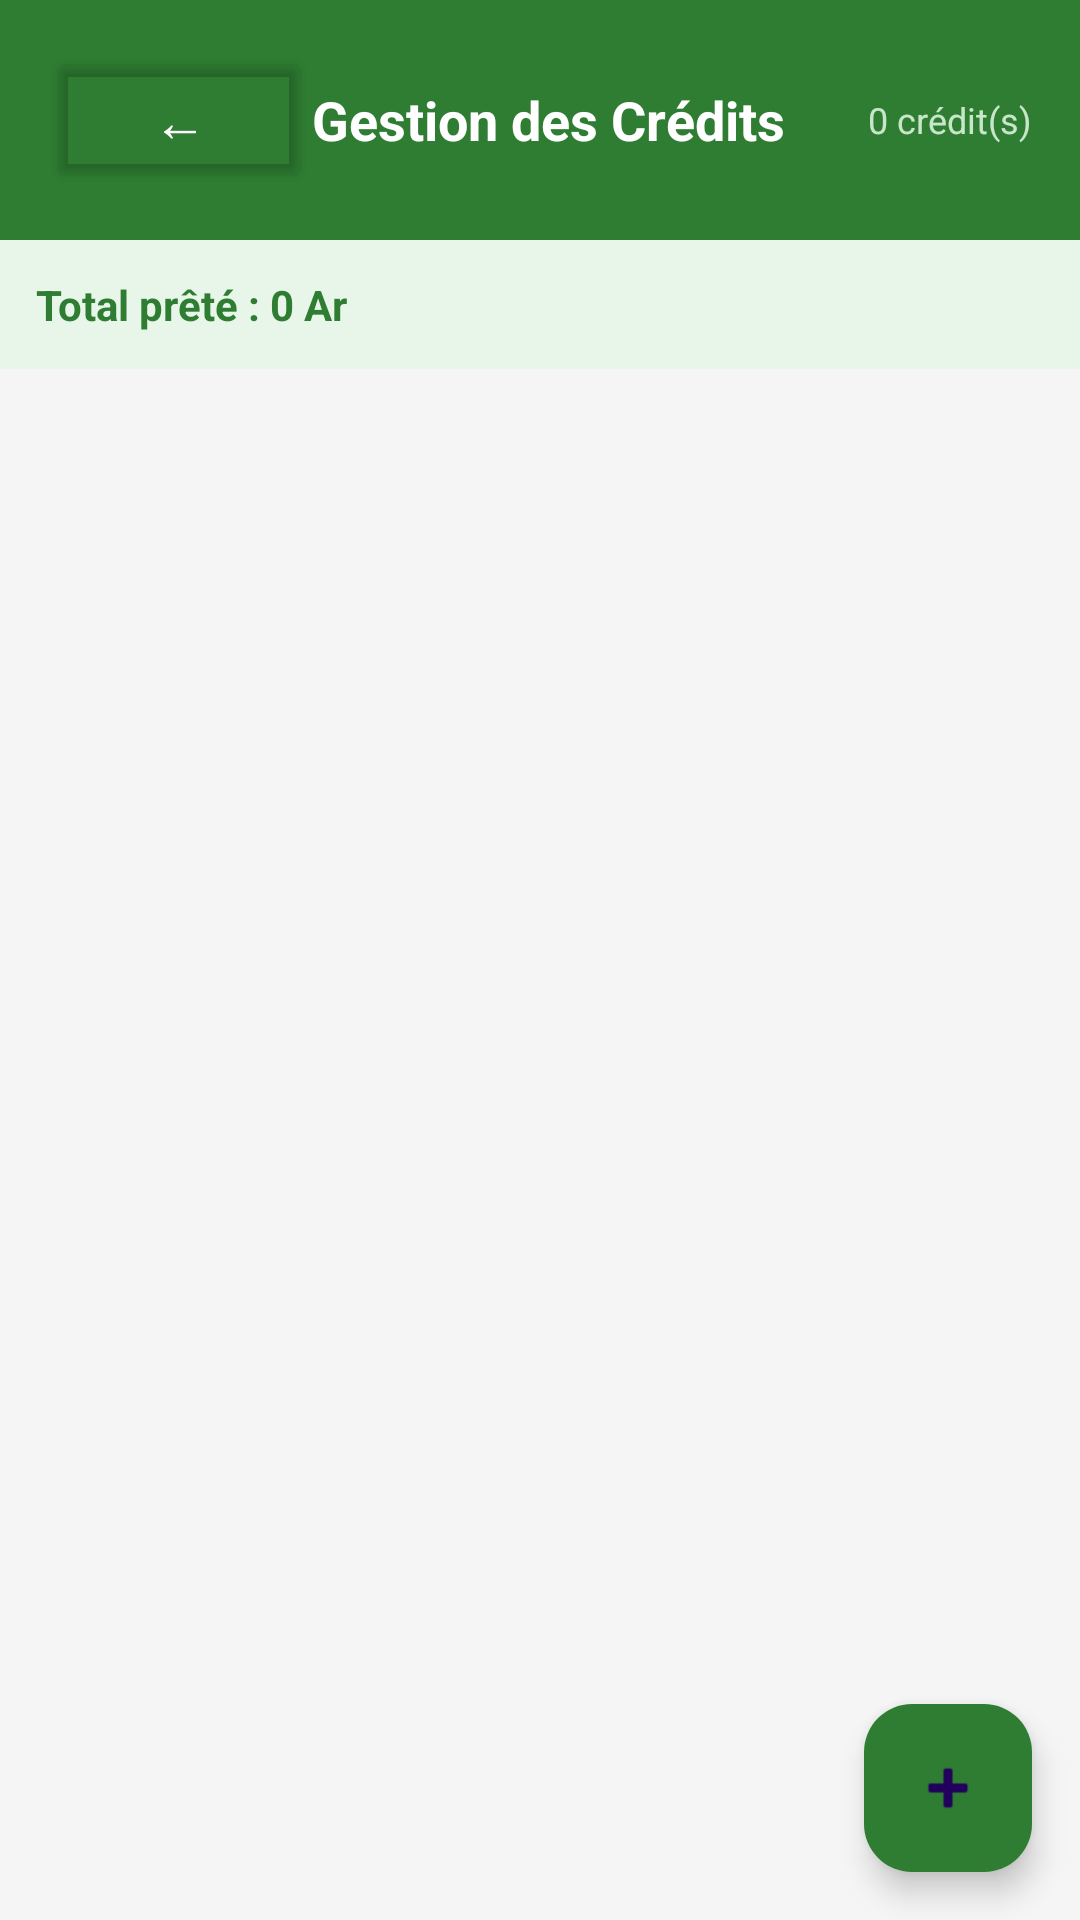

Screen size 1080×1920. Icon name, then its box in pixels as Rect(x1, y1, x2, y2):
Nouveau crédit: Rect(864, 1704, 1032, 1872)
